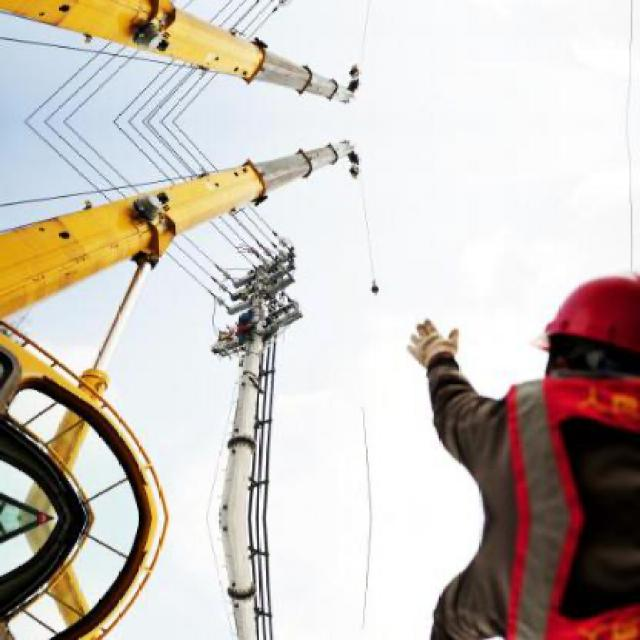helmet: (537, 264, 638, 410)
